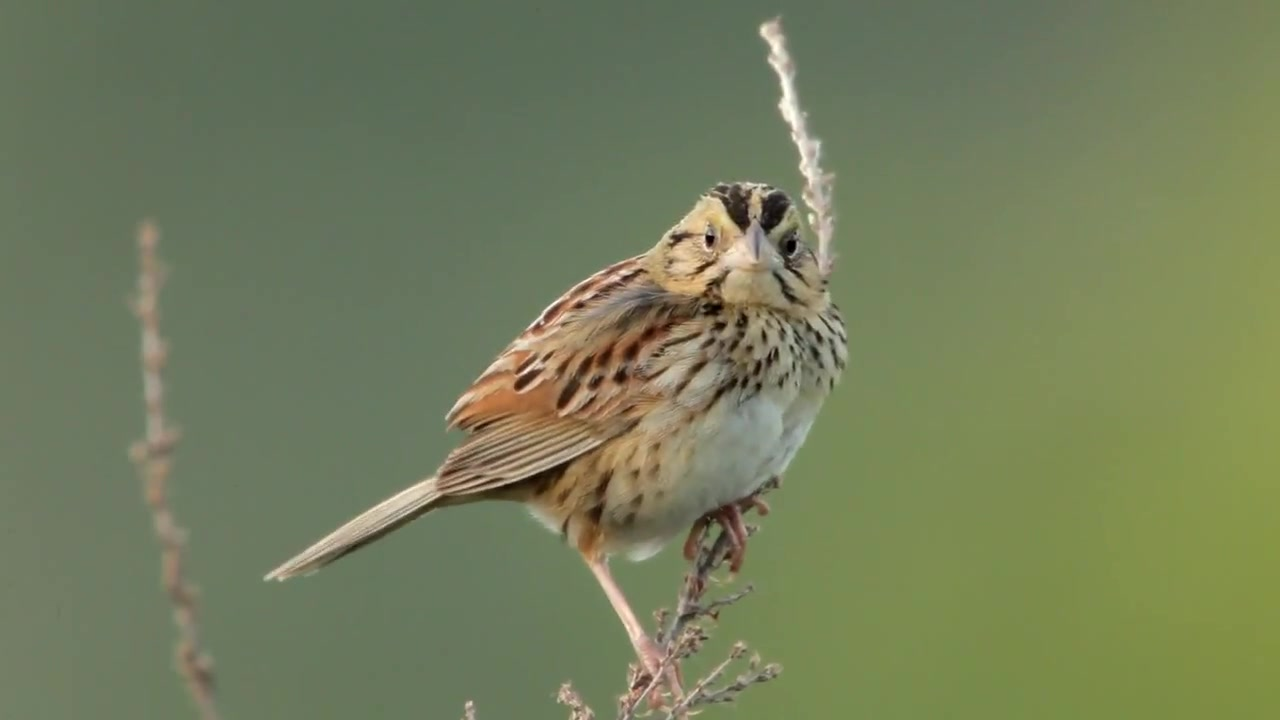bird: (265, 181, 851, 712)
